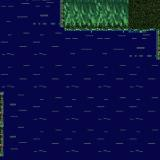Interaction: (51, 16, 146, 42), (146, 17, 160, 63), (52, 0, 71, 15)
Slow: (62, 30, 160, 159), (0, 0, 61, 160), (63, 0, 129, 28)
